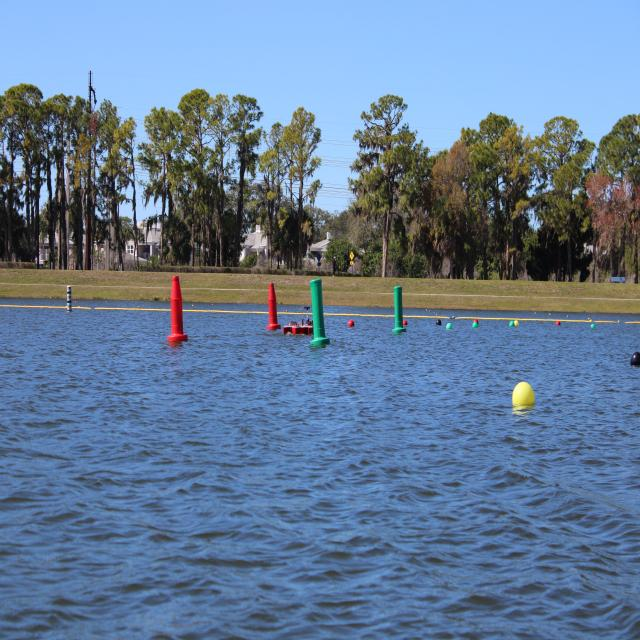black-buoy: (631, 352, 640, 368)
green-buoy: (472, 322, 478, 329), (448, 322, 453, 330)
green-column-buoy: (310, 278, 330, 346), (392, 286, 405, 334)
red-column-buoy: (169, 275, 187, 344), (268, 282, 281, 330)
yellow-buoy: (511, 379, 534, 408)
